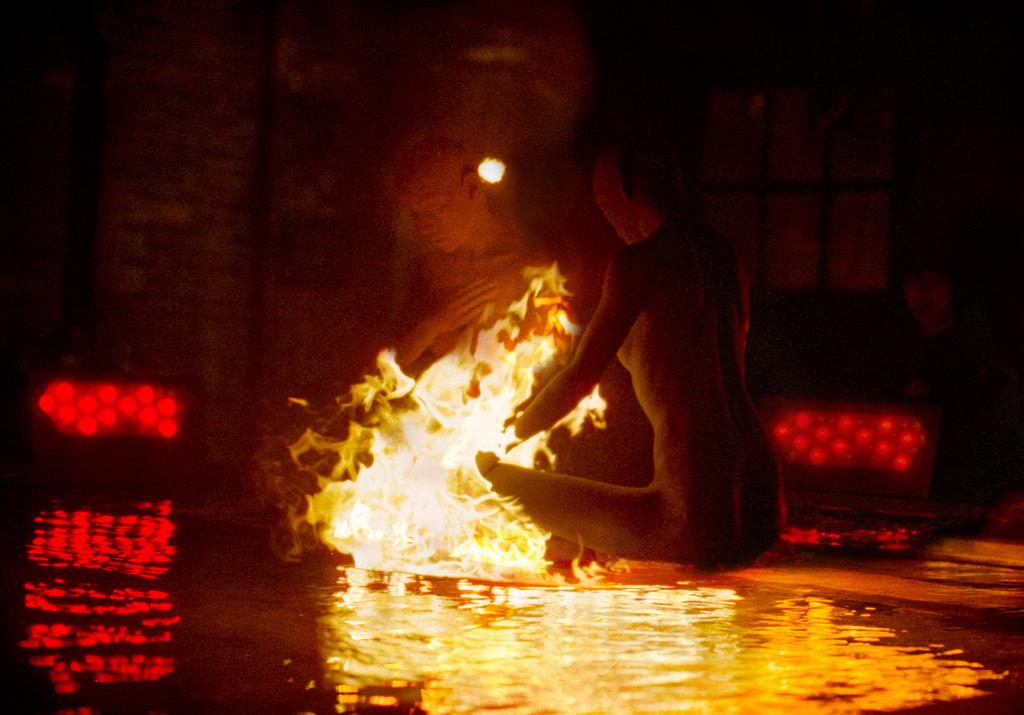fire: (332, 474, 538, 576), (372, 368, 514, 468)
